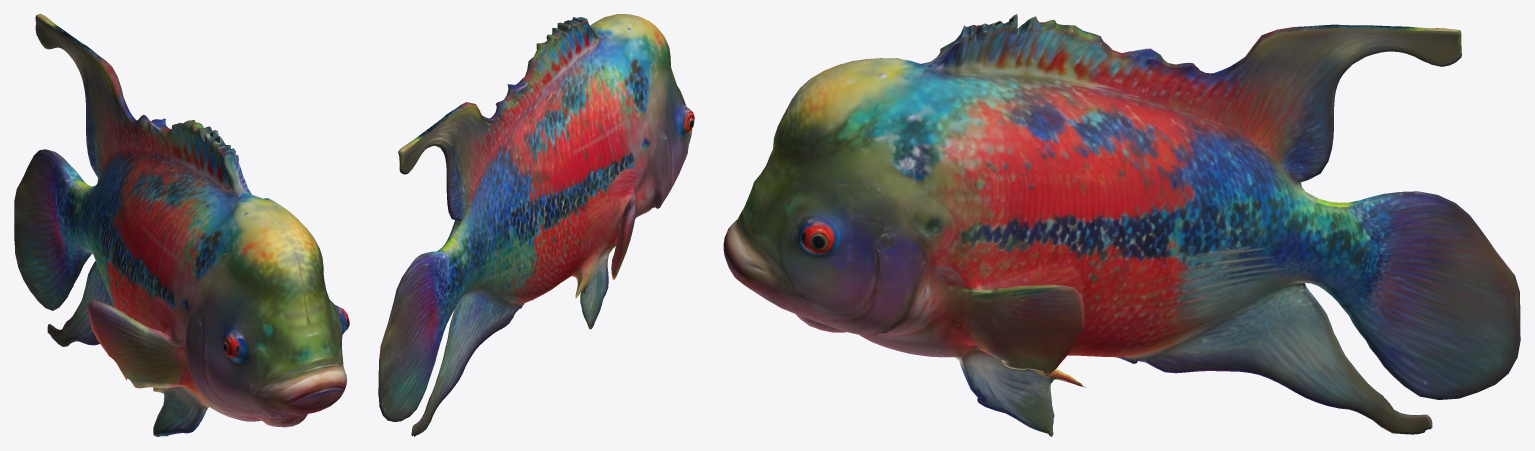
The model's file is Louhan_0604055253_texture.glb.
The picture shows the model from 3 angles, left to right: view 1: azimuth 30°, elevation 25°; view 2: azimuth 150°, elevation 25°; view 3: azimuth 270°, elevation 25°; orthographic projection. The views are drawn at different scales.
Bounding box in the file's own units: 0.7086 × 1.15 × 2.
Materials: 1 (1 with a texture image).
